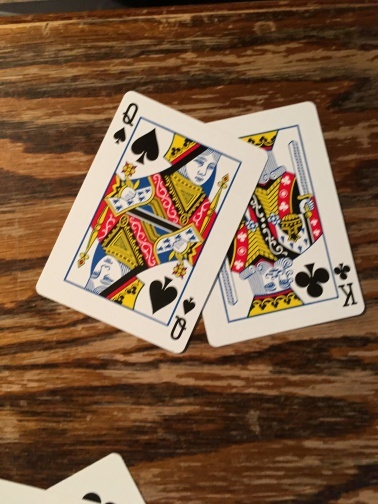king: (205, 113, 360, 327)
queen: (65, 98, 242, 346)
